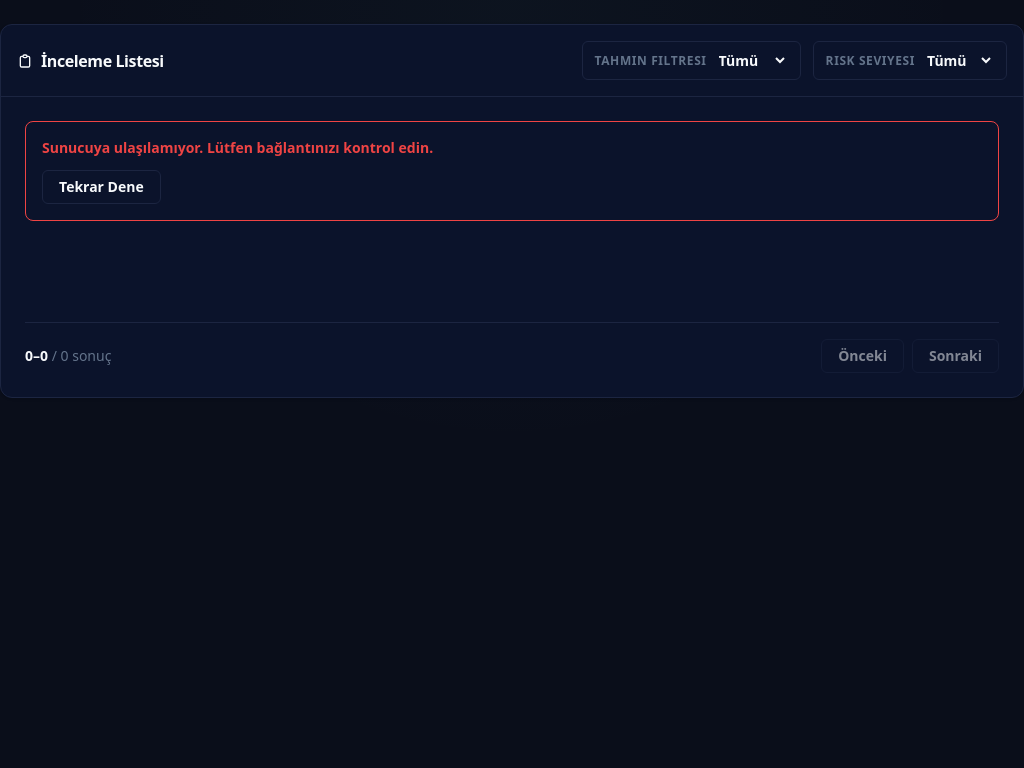
Scenario: DetectionResultsList › 25. Retry hata sonrasında başarıyla çalışır
Expected: the message "Sunucuya ulaşılamıyor. Lütfen bağlantınızı kontrol edin. Tekrar Dene" is shown, [25,121,999,221]
Click the button "Tekrar Dene" at [101, 187], box [42,170,161,204]
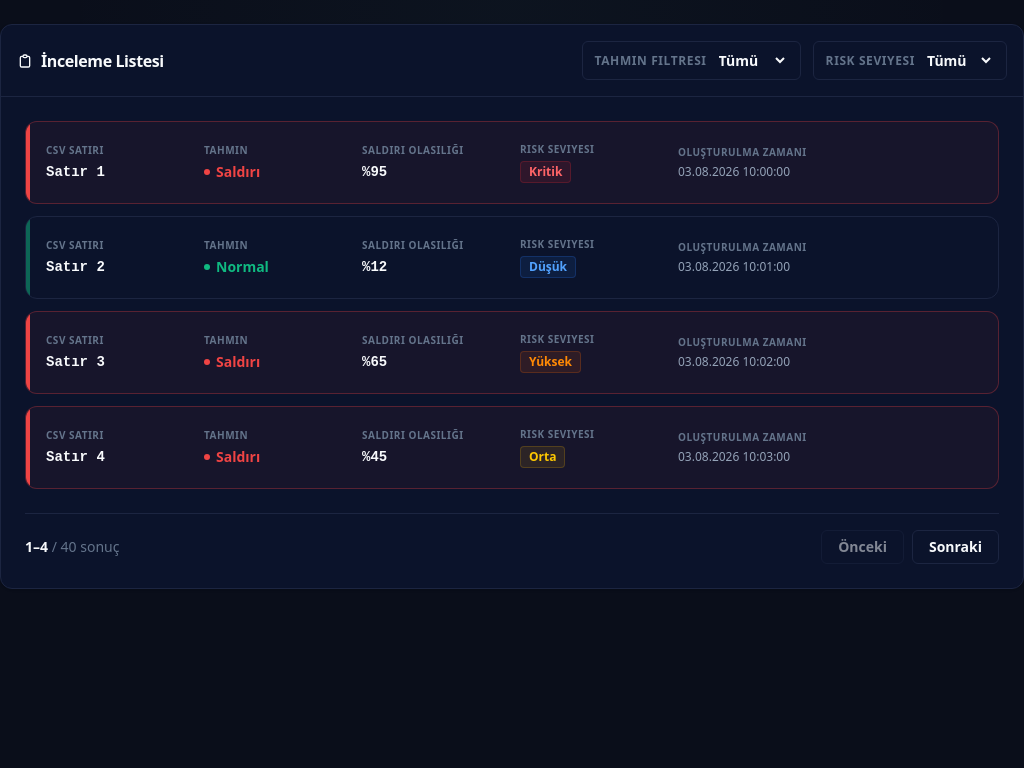
Expected: the message "Sunucuya ulaşılamıyor. Lütfen bağlantınızı kontrol edin. Tekrar Dene" is gone
Expected: the text "Satır 1" is shown, [46,164,105,180]
